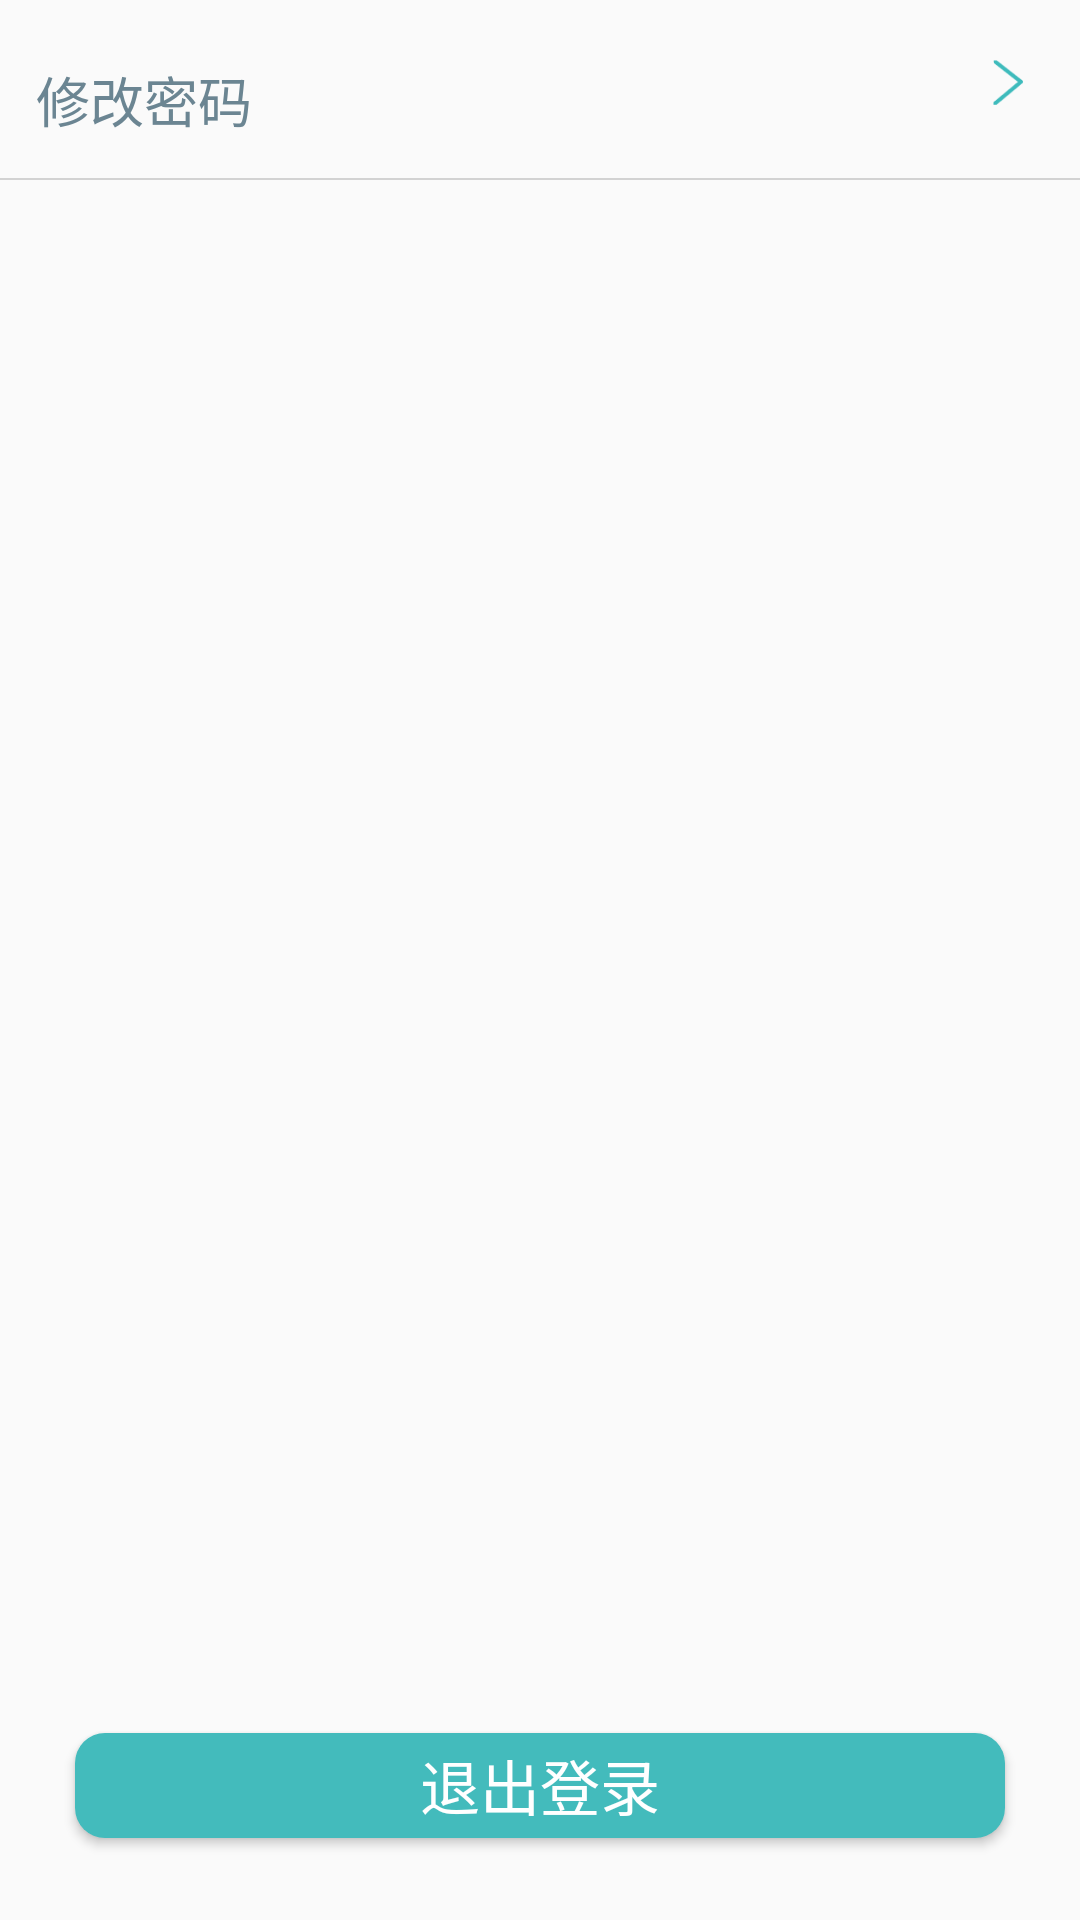

Named icons in this screenshot (1080px×1920px) and their bounding boxes, (x1, y1, x2, y2):
next: (993, 60, 1023, 105)
